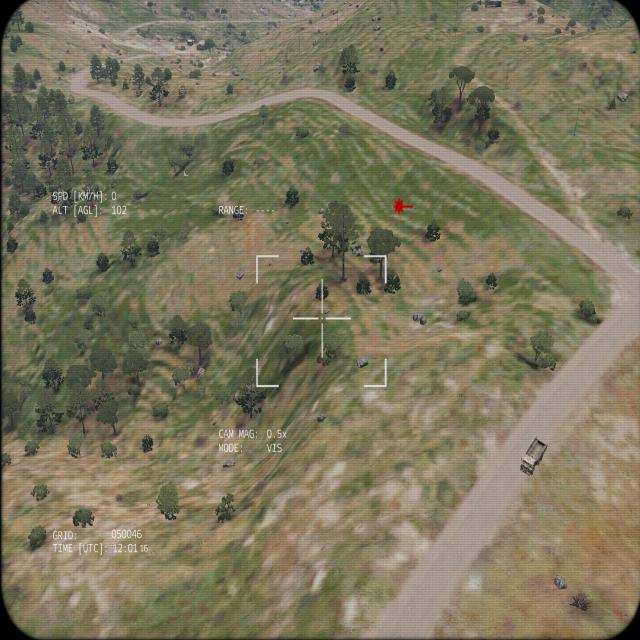truck: (519, 436, 547, 478)
